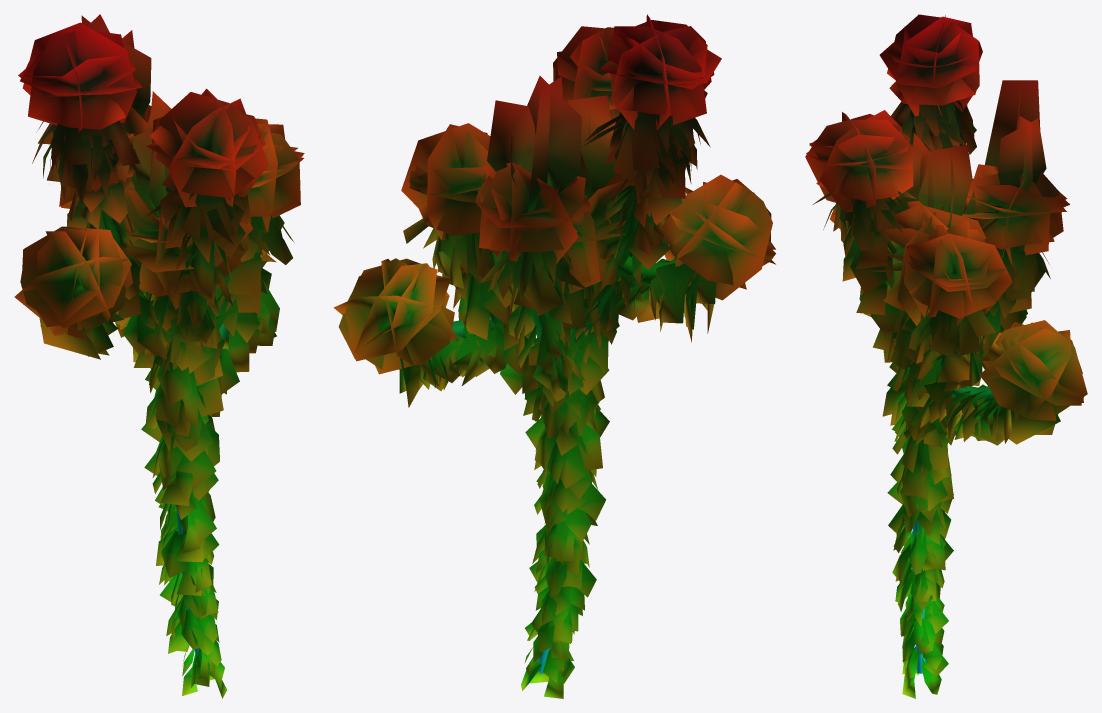
File: Joshua8.fbx
3 renders of one model, left to right at view 1: azimuth 30°, elevation 25°; view 2: azimuth 150°, elevation 25°; view 3: azimuth 270°, elevation 25°, orthographic. The views are drawn at different scales.
Parts seen in each view (by area): view 1: Joshua8_LOD0; view 2: Joshua8_LOD0; view 3: Joshua8_LOD0.
Boxes of the visible parts, x1=… form: Joshua8_LOD0: x1=14, y1=14, x2=304, y2=698; Joshua8_LOD0: x1=333, y1=14, x2=775, y2=698; Joshua8_LOD0: x1=805, y1=14, x2=1087, y2=698.
Size of what is drawn, in the model's own units: 277 by 547 by 224.
